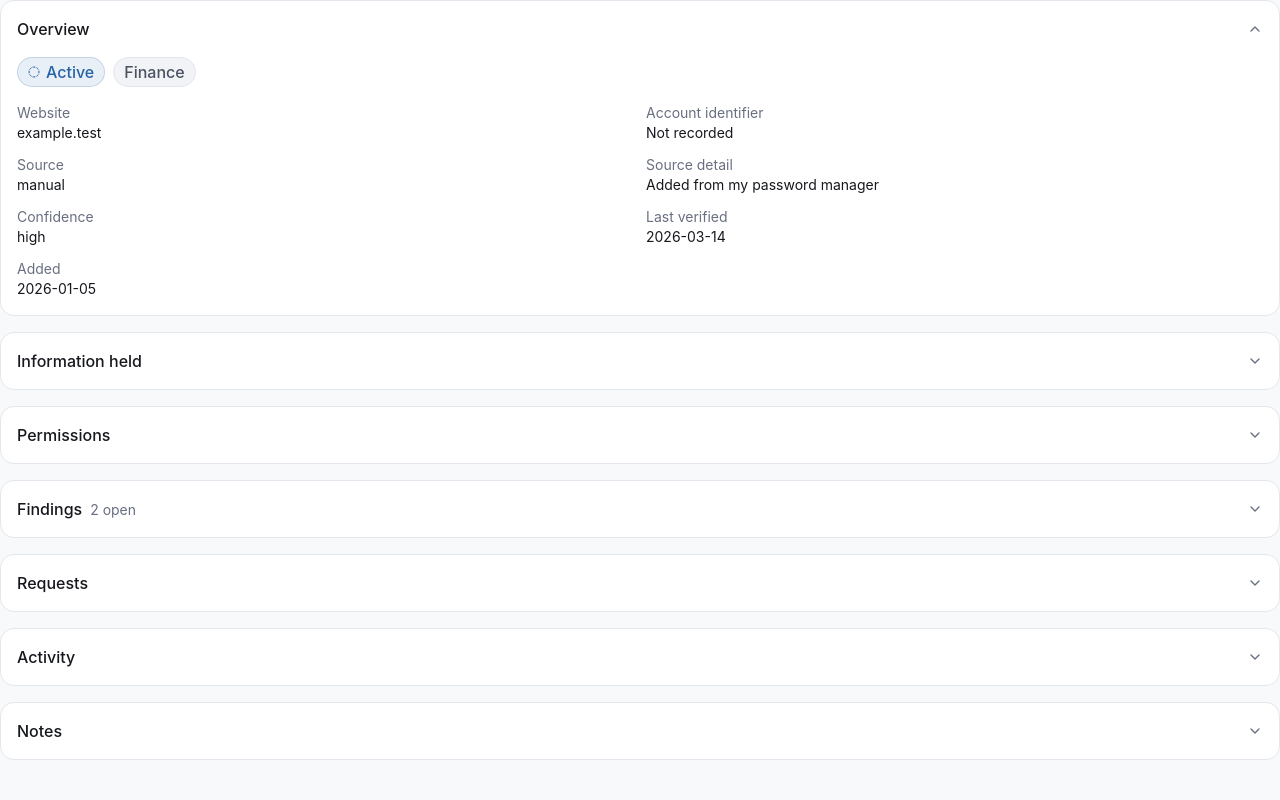
Test: the findings section › lists the open findings it was given
What coordinates should you click on to do the following:
click the heading "Findings"
I would click on:
 (50, 509)
Its box is [17,497,82,521].
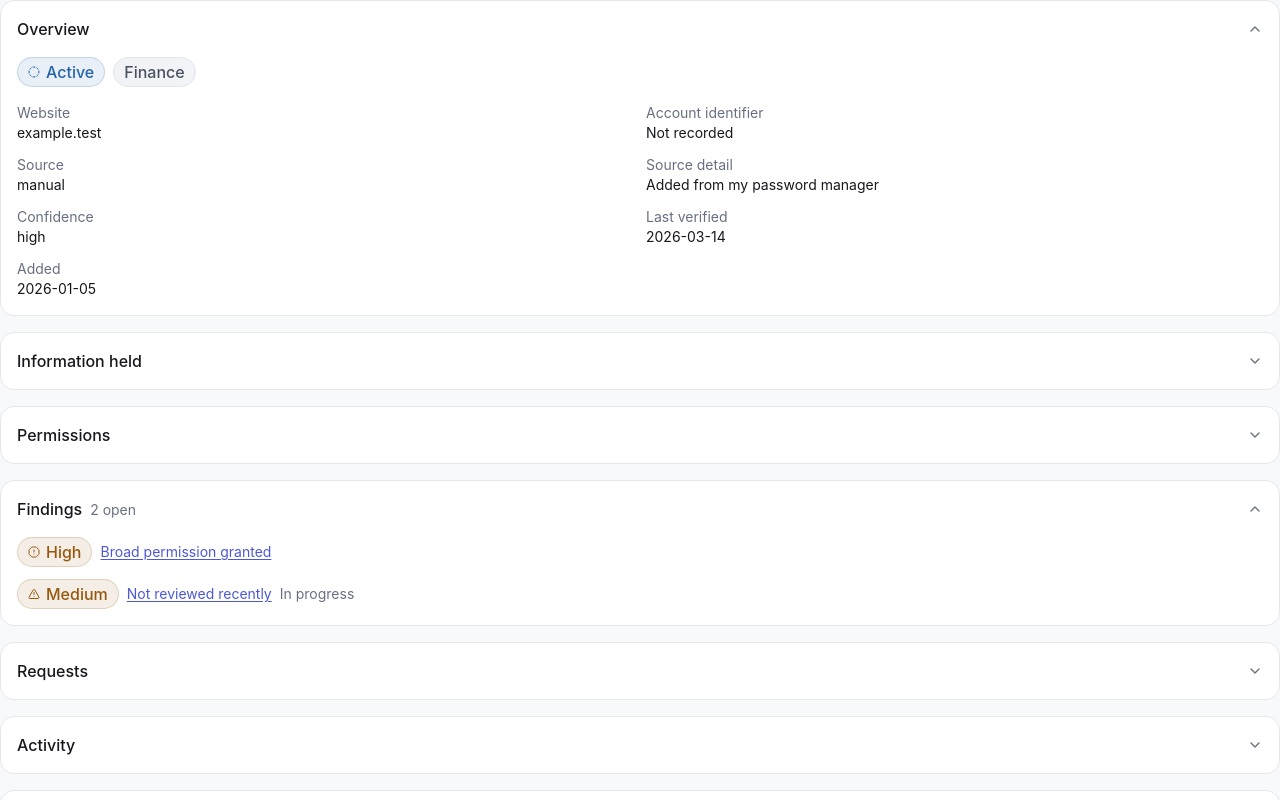
Expected: the text "In progress" is shown, [280,584,354,604]
